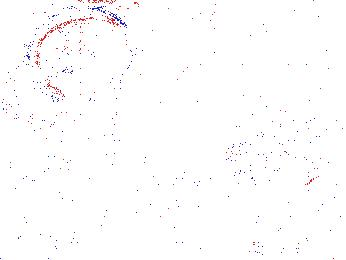moon jellyfish: (29, 9, 136, 101), (251, 121, 323, 195), (3, 67, 91, 127), (133, 19, 221, 60)
